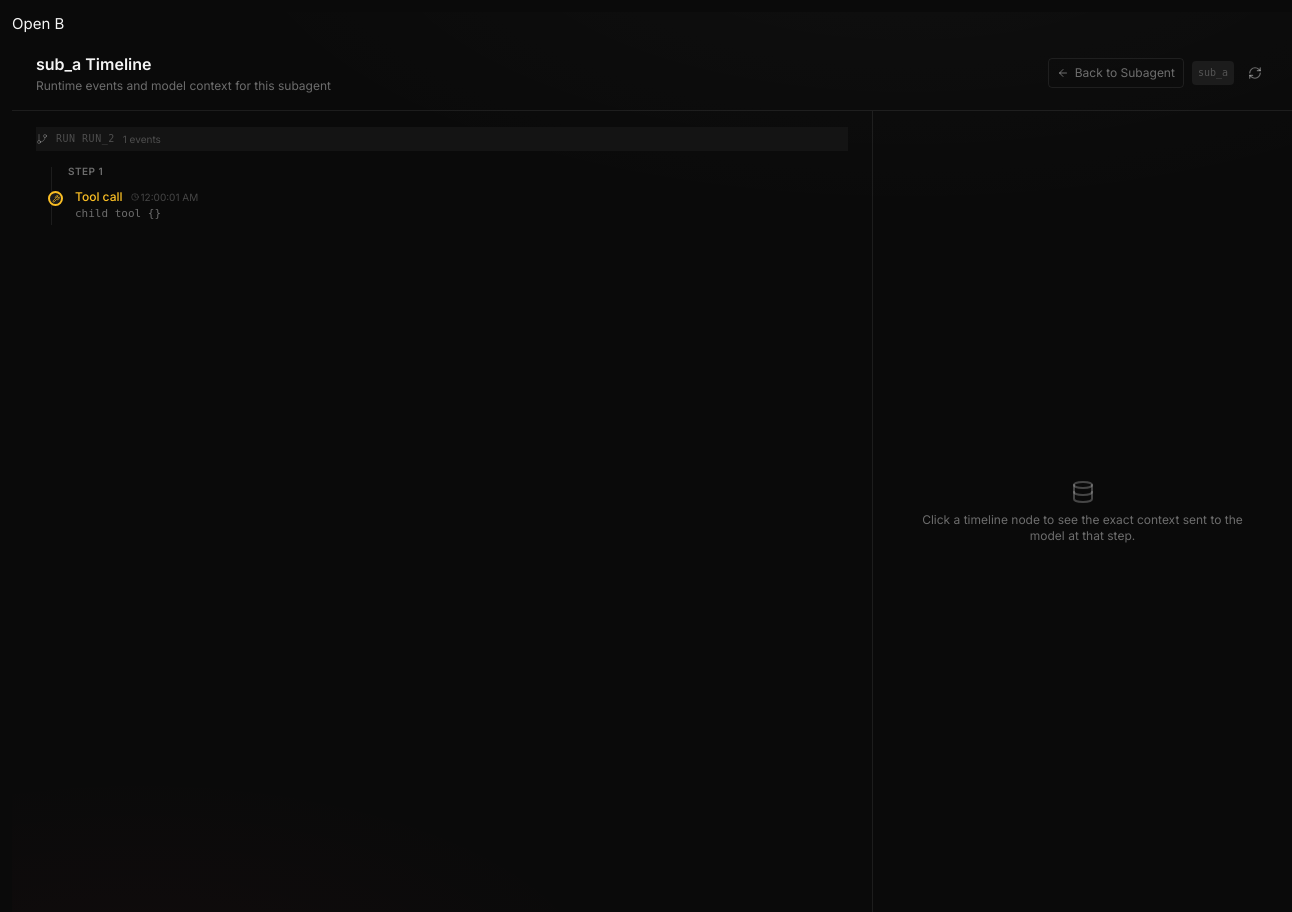
Test: Agent timelines › loads the child context and returns to its conversation
The width and height of the screenshot is (1292, 912).
Click the text "child tool {}".
click(118, 214)  # box [75,207,161,220]
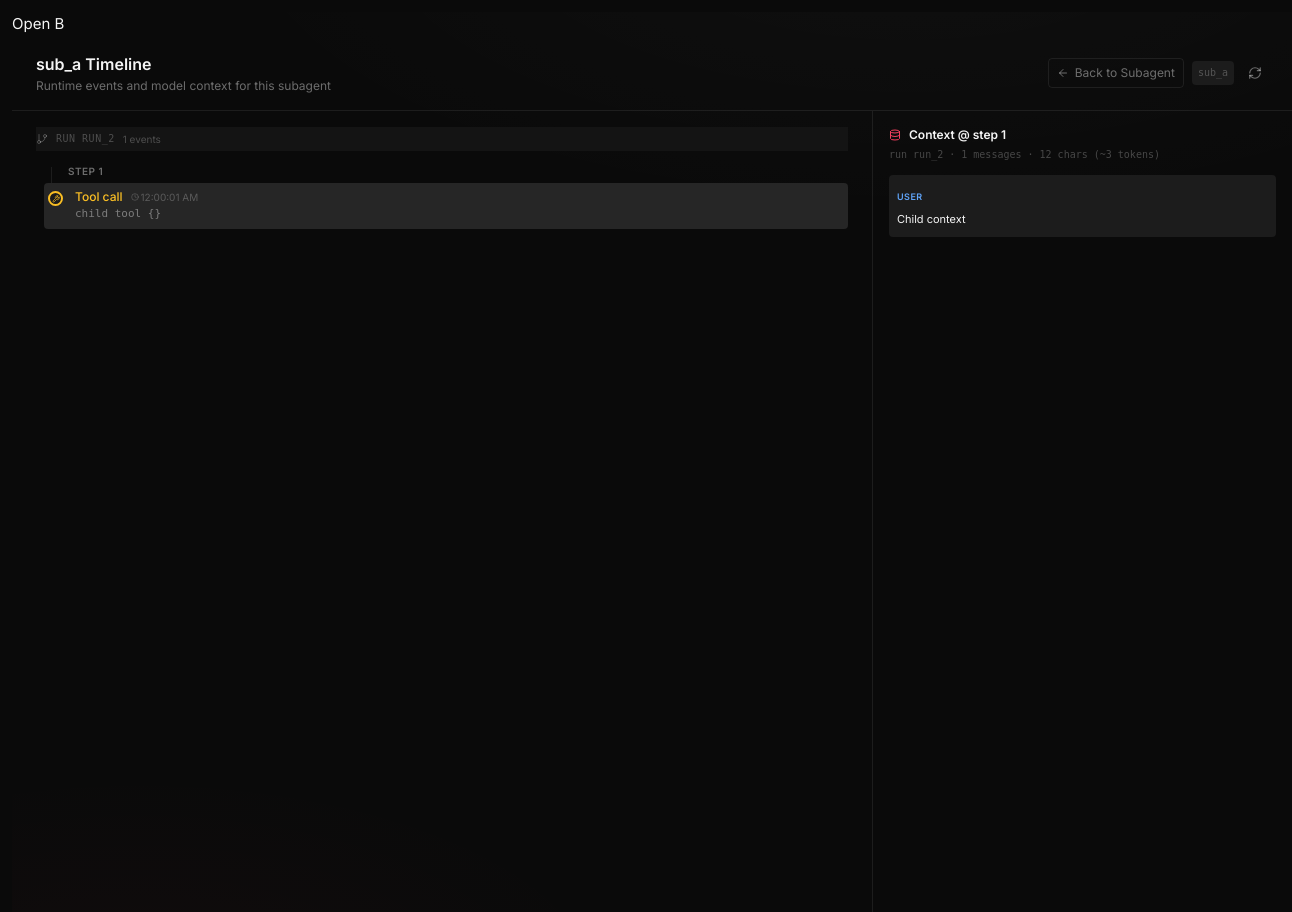
Now the text "Child context" is shown, box [897,212,966,226]
Click the button "Back to Subagent".
click(1116, 73)  # box [1048,58,1184,88]
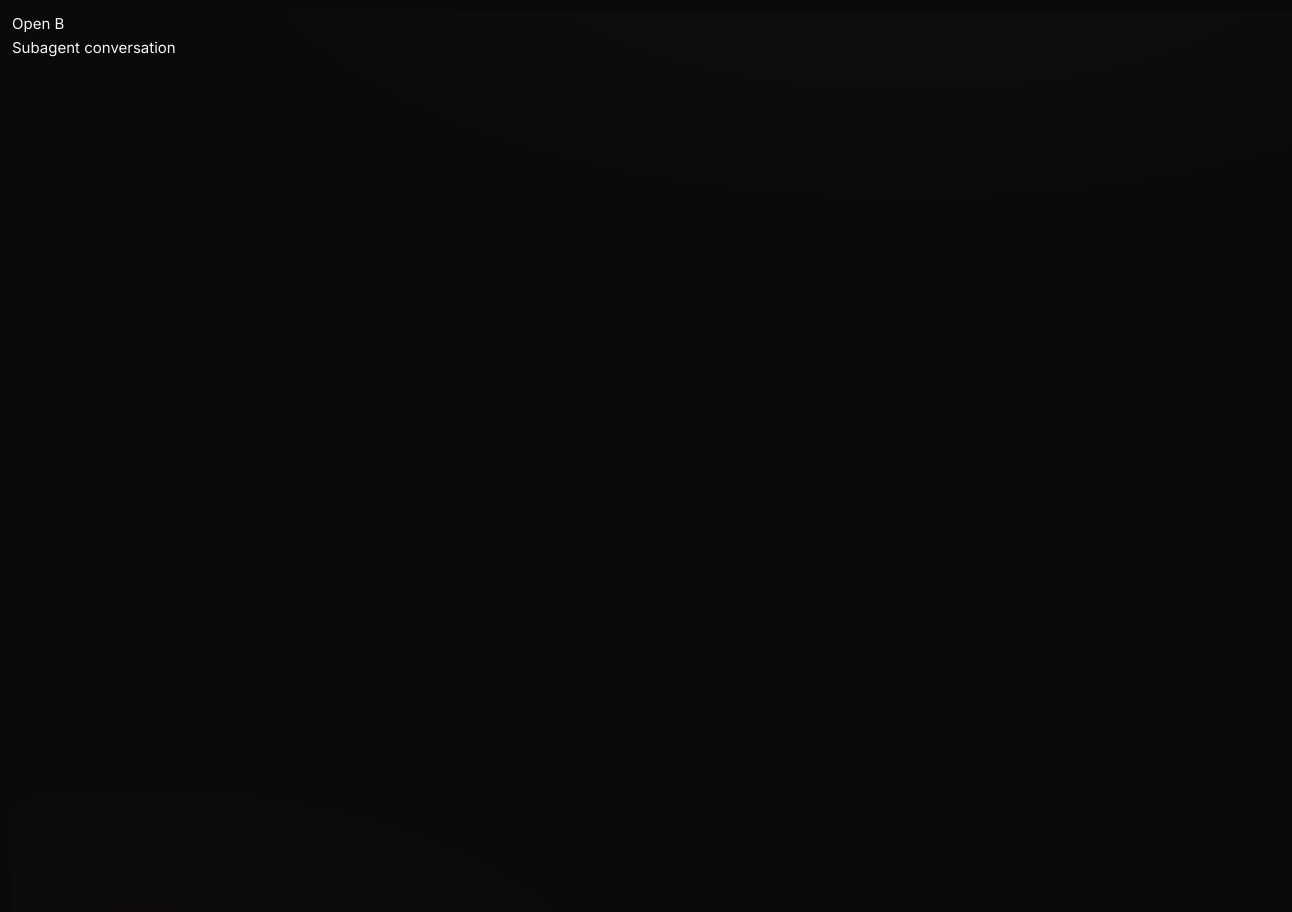
Now the text "Subagent conversation" is shown, box [12,38,176,57]
